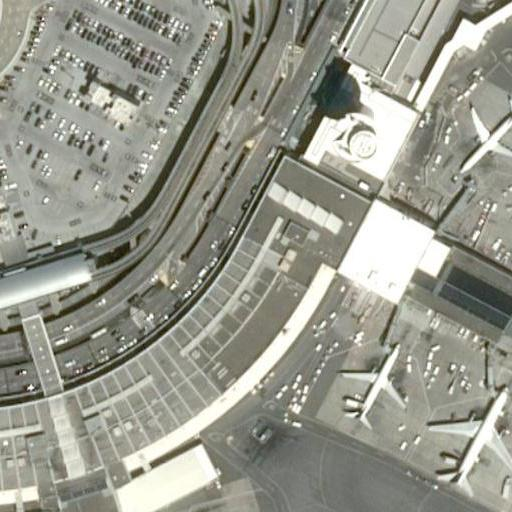Aircraft: (426, 373, 512, 495), (331, 333, 409, 433), (451, 94, 512, 173)
